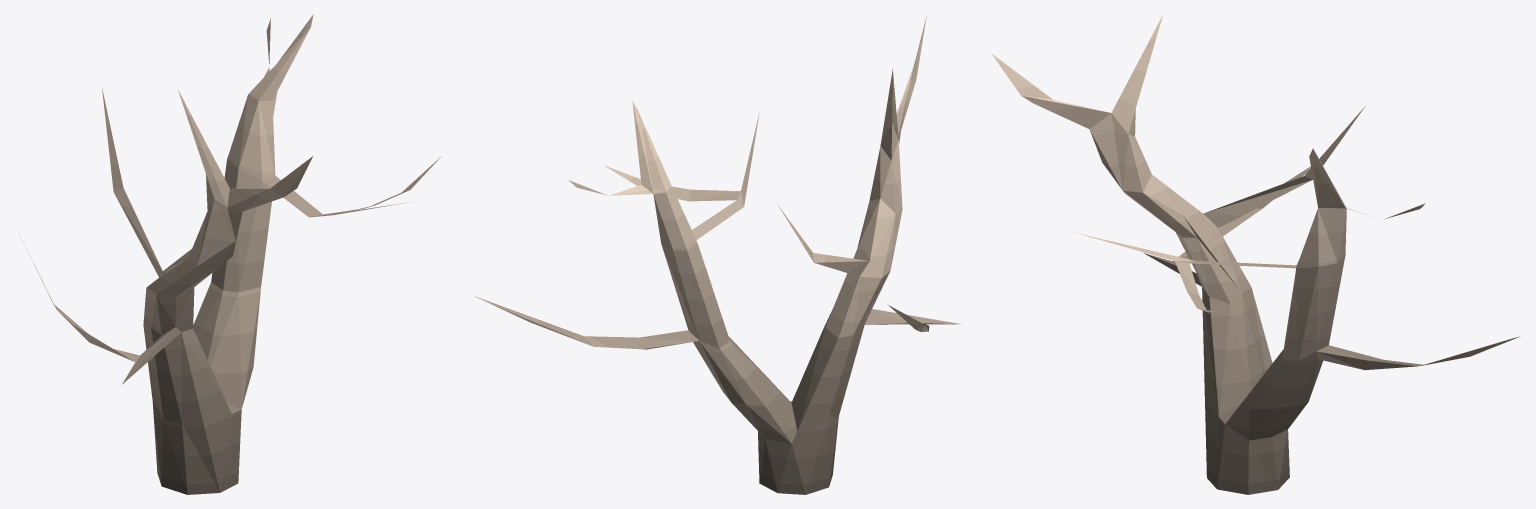
Rendered from Prefab_Foliage_Tree_Elm_Trunk.glb.
3 views of the same model, side by side, from view 1: azimuth 30°, elevation 25°; view 2: azimuth 150°, elevation 25°; view 3: azimuth 270°, elevation 25° (orthographic). The views are drawn at different scales.
Parts seen in each view (by area): view 1: ElmTree_B_Trunk.002; view 2: ElmTree_B_Trunk.002; view 3: ElmTree_B_Trunk.002.
Boxes of the visible parts, left/top/right/bottom form: ElmTree_B_Trunk.002: left=19, top=14, right=441, bottom=494; ElmTree_B_Trunk.002: left=473, top=15, right=961, bottom=494; ElmTree_B_Trunk.002: left=991, top=15, right=1520, bottom=494.
Bounding box in the file's own units: 9.31 × 10.46 × 11.63.
Materials: 1 (1 with a texture image).
